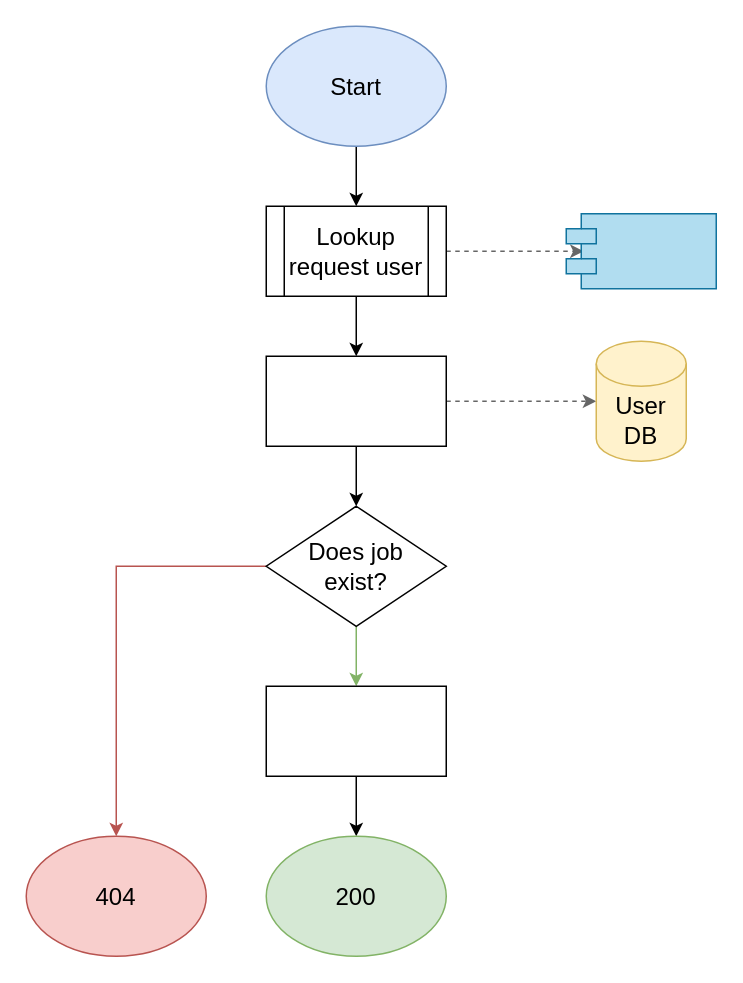
Image size: 743x983. Some labels were removed from this diagram. Each missing label, with the centre of its shape:
Container Core: point (640, 250)
Lookup target job in user DB: point (355, 400)
Stream query contents: point (355, 730)
